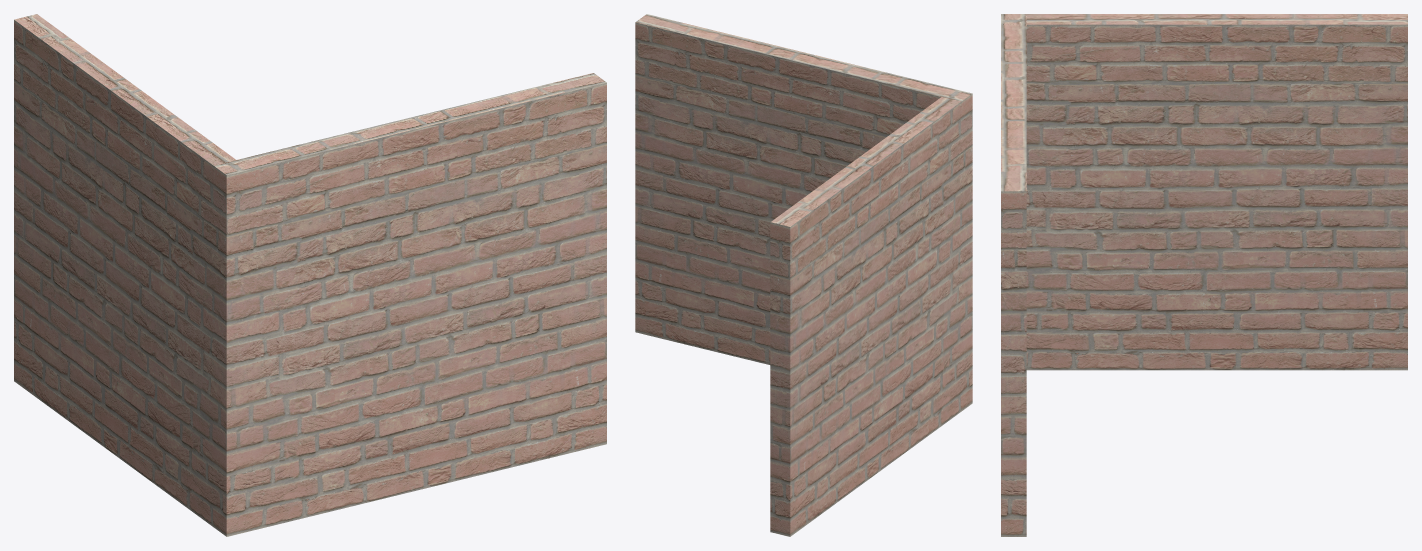
File: Walls_L.fbx
The picture shows the model from 3 angles, left to right: view 1: azimuth 30°, elevation 25°; view 2: azimuth 150°, elevation 25°; view 3: azimuth 270°, elevation 25°; orthographic projection. The views are drawn at different scales.
Visible parts, largest first — view 1: Walls_L; view 2: Walls_L; view 3: Walls_L.
Boxes of the visible parts, <box> form: Walls_L: <box>14,14,606,536</box>; Walls_L: <box>635,14,972,536</box>; Walls_L: <box>1001,14,1407,536</box>.
Size of the model in its own units: 330 by 300 by 320.
1 material, 1 textured.
